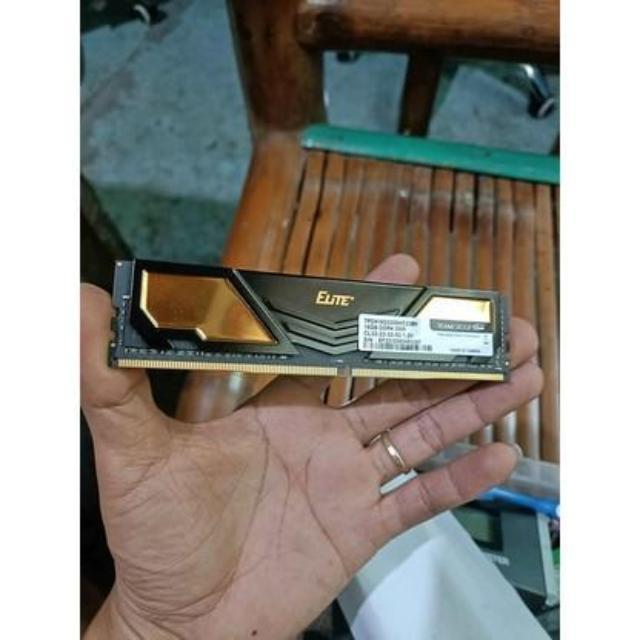RAM: (110, 252, 516, 386)
